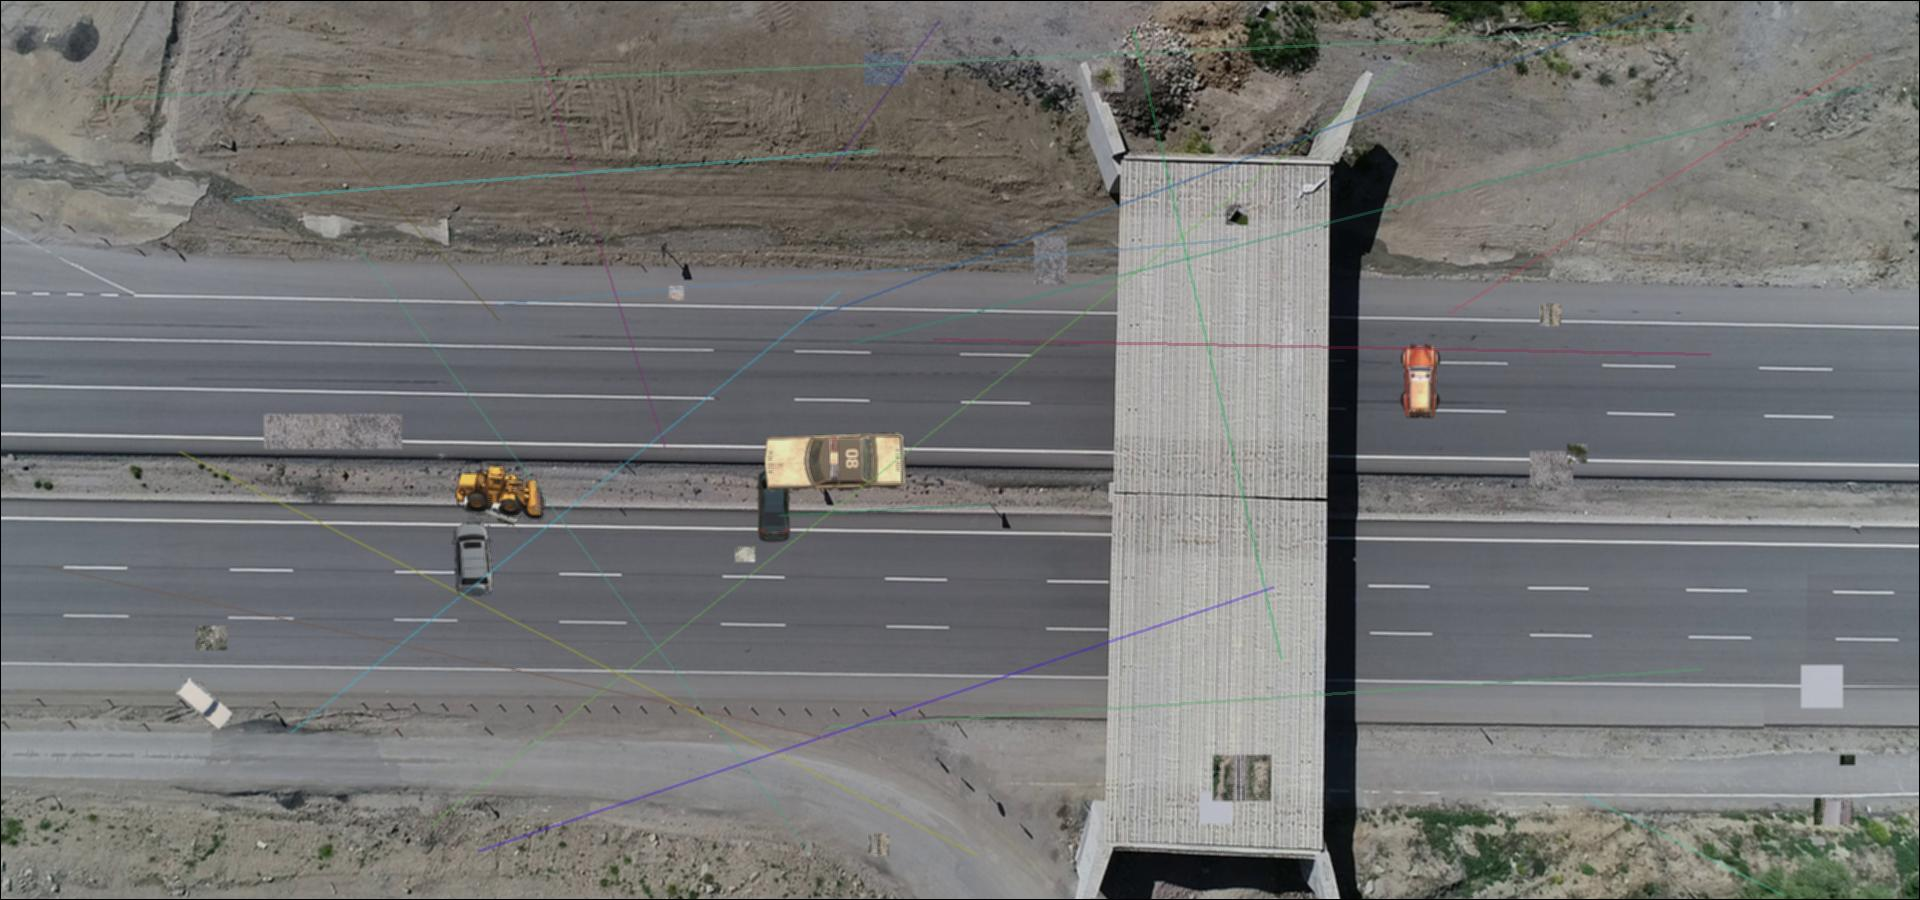arac: (760, 432, 907, 493), (453, 462, 546, 520), (449, 522, 497, 598), (1400, 343, 1442, 419), (174, 676, 233, 730), (754, 469, 793, 544), (458, 486, 523, 527)
